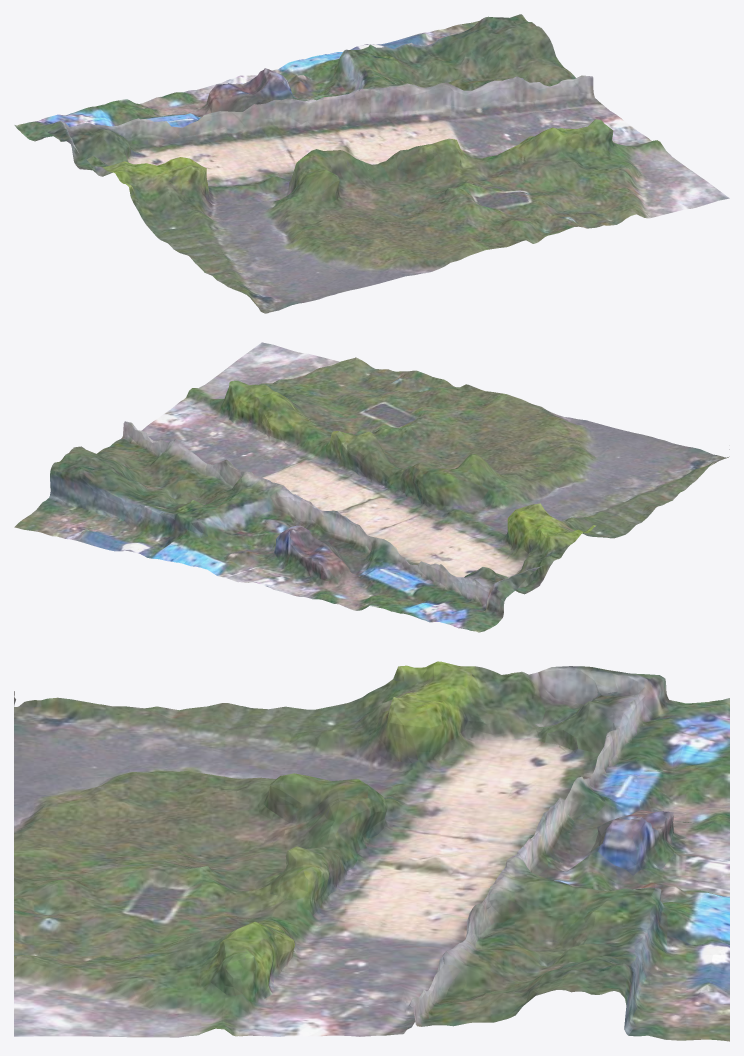
Rendered from Tile_+001_+008_L22_00010000.glb.
3 renders of one model, top to bottom at view 1: azimuth 30°, elevation 25°; view 2: azimuth 150°, elevation 25°; view 3: azimuth 270°, elevation 25°, orthographic. The views are drawn at different scales.
Visible parts, largest first — view 1: rtc; view 2: rtc; view 3: rtc.
Part boxes in pixels (<box>): rtc: <box>14,14,729,313</box>; rtc: <box>14,342,729,632</box>; rtc: <box>14,661,729,1041</box>.
Size of the model in its own units: 25.59 by 2.06 by 23.5.
Materials: 1 (1 with a texture image).
